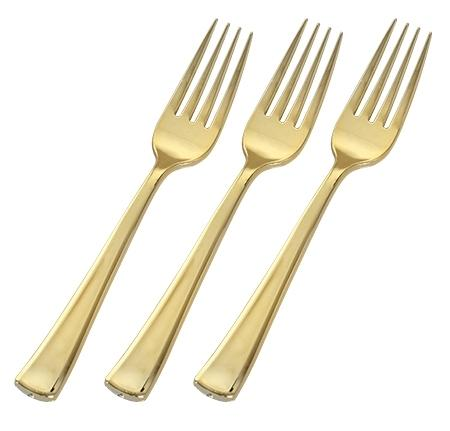Fork: (193, 18, 432, 402), (104, 18, 343, 402), (14, 18, 253, 402)
